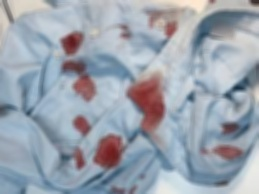blood: (133, 81, 162, 132), (94, 134, 123, 167), (61, 31, 83, 56), (74, 74, 95, 100), (73, 115, 91, 137), (212, 146, 244, 158), (62, 61, 85, 73), (111, 183, 138, 193), (221, 123, 241, 136), (75, 148, 84, 171), (165, 22, 178, 37), (120, 25, 130, 40), (149, 15, 155, 28)
